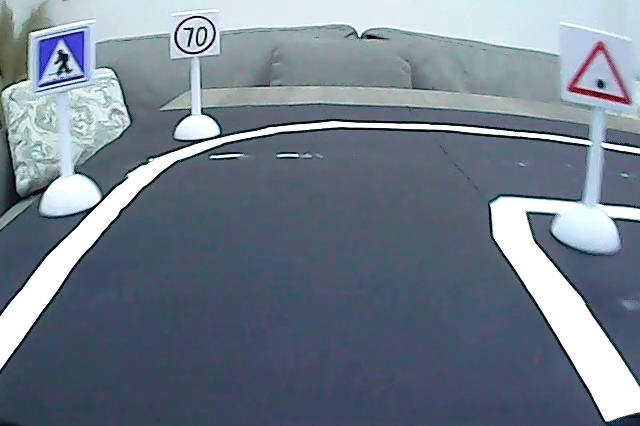green light: (563, 36, 636, 111)
pedestrian crossing: (32, 26, 89, 87)
speed limit 70: (170, 14, 218, 58)
